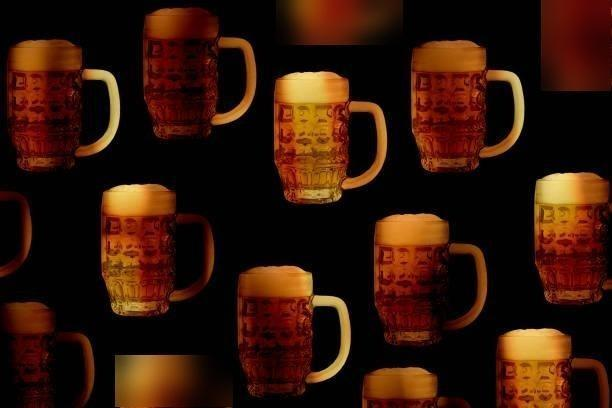glass-mug: (233, 263, 353, 402), (139, 5, 259, 143), (370, 212, 490, 350), (3, 37, 123, 175), (407, 38, 527, 175), (97, 182, 217, 319), (270, 70, 390, 206), (531, 170, 612, 307), (493, 326, 611, 408)
